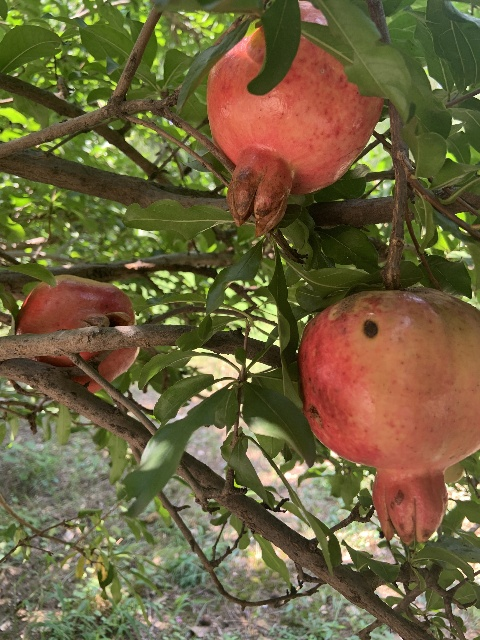ripe: (297, 289, 479, 545), (205, 1, 385, 243), (15, 276, 139, 394)
